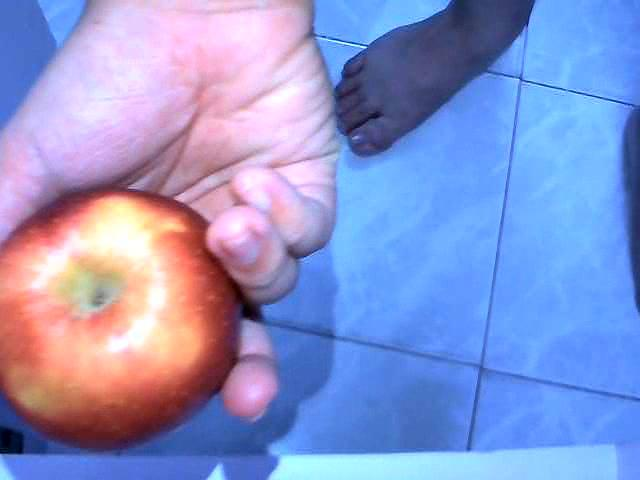apple: (0, 190, 246, 447)
